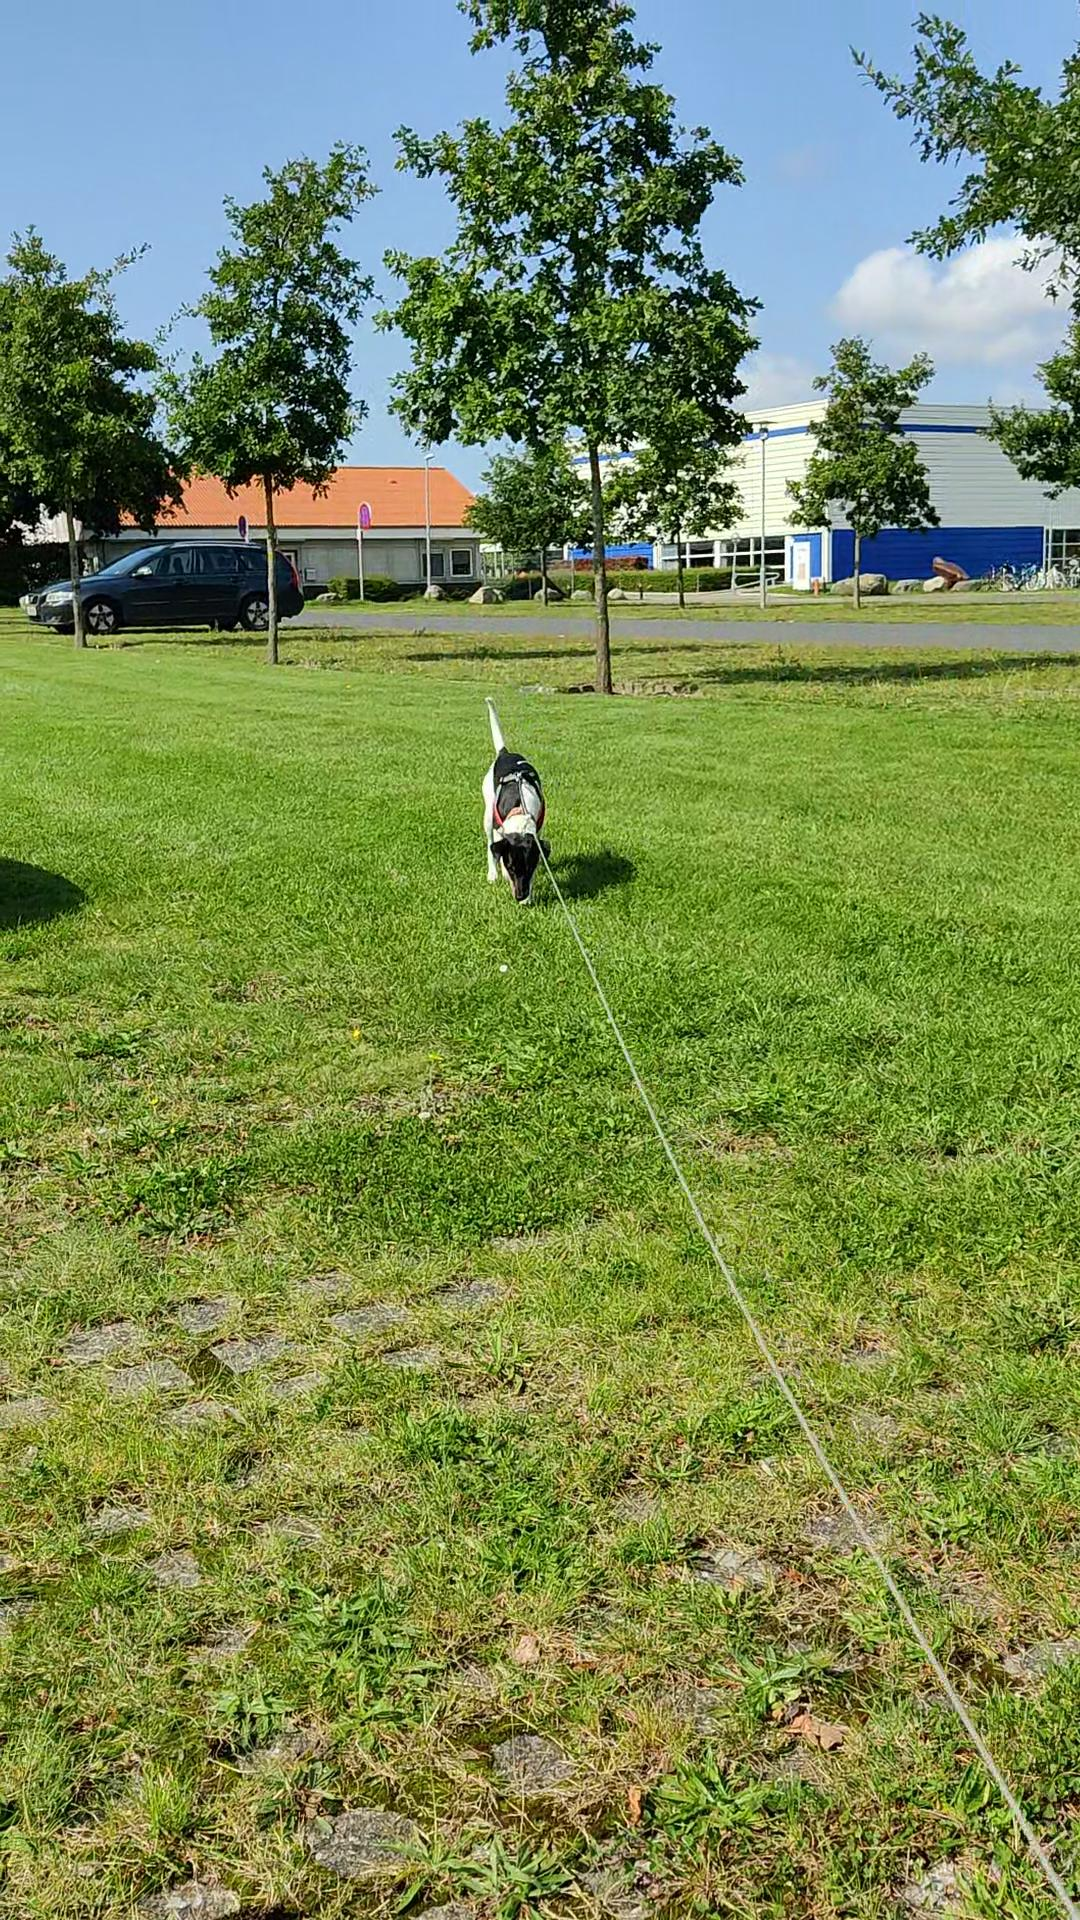Dog: (469, 686, 556, 915)
